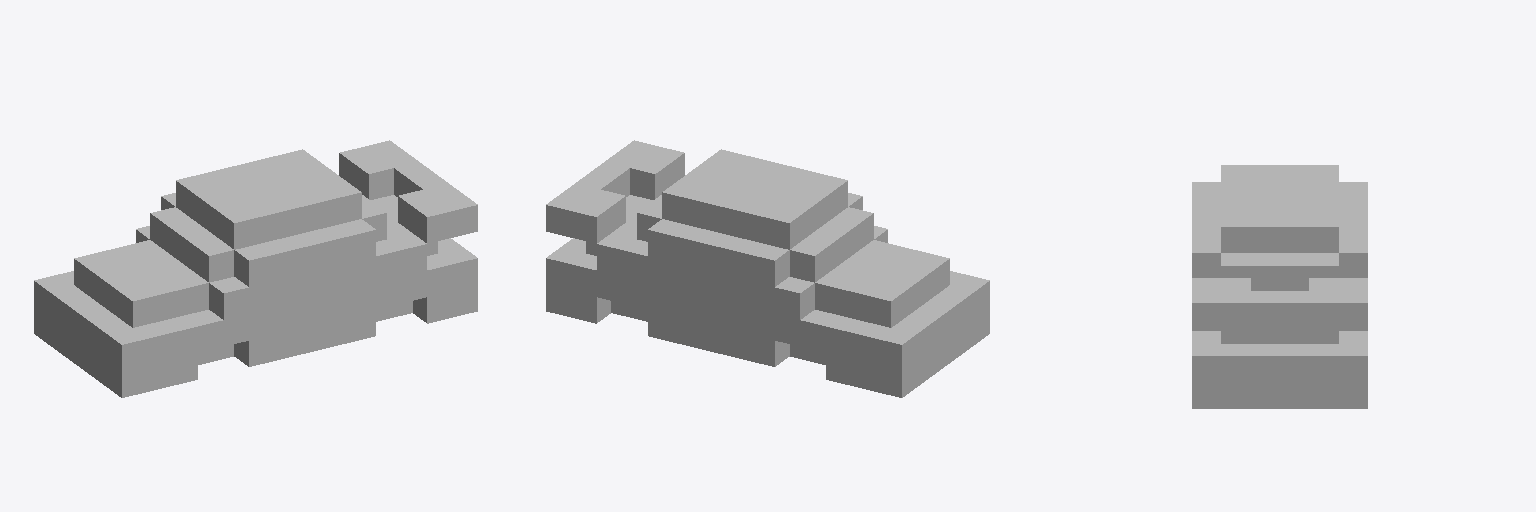
The model's file is racer-v3-blue.obj.
3 views of the same model, side by side, from view 1: azimuth 30°, elevation 25°; view 2: azimuth 150°, elevation 25°; view 3: azimuth 270°, elevation 25° (orthographic).
Visible parts, largest first — view 1: object 1; view 2: object 1; view 3: object 1.
Boxes of the visible parts, <box> form: object 1: <box>34,140,477,397</box>; object 1: <box>546,140,989,397</box>; object 1: <box>1192,165,1367,408</box>.
Size of the model in its own units: 1.4 by 0.5 by 0.6.